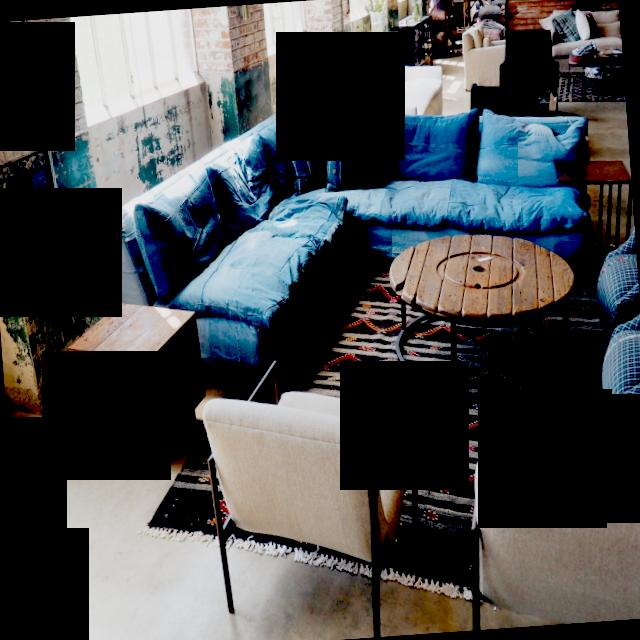vintage chair: (195, 348, 426, 640), (436, 386, 640, 631)
vintage desk: (383, 215, 590, 413), (52, 293, 210, 472)
